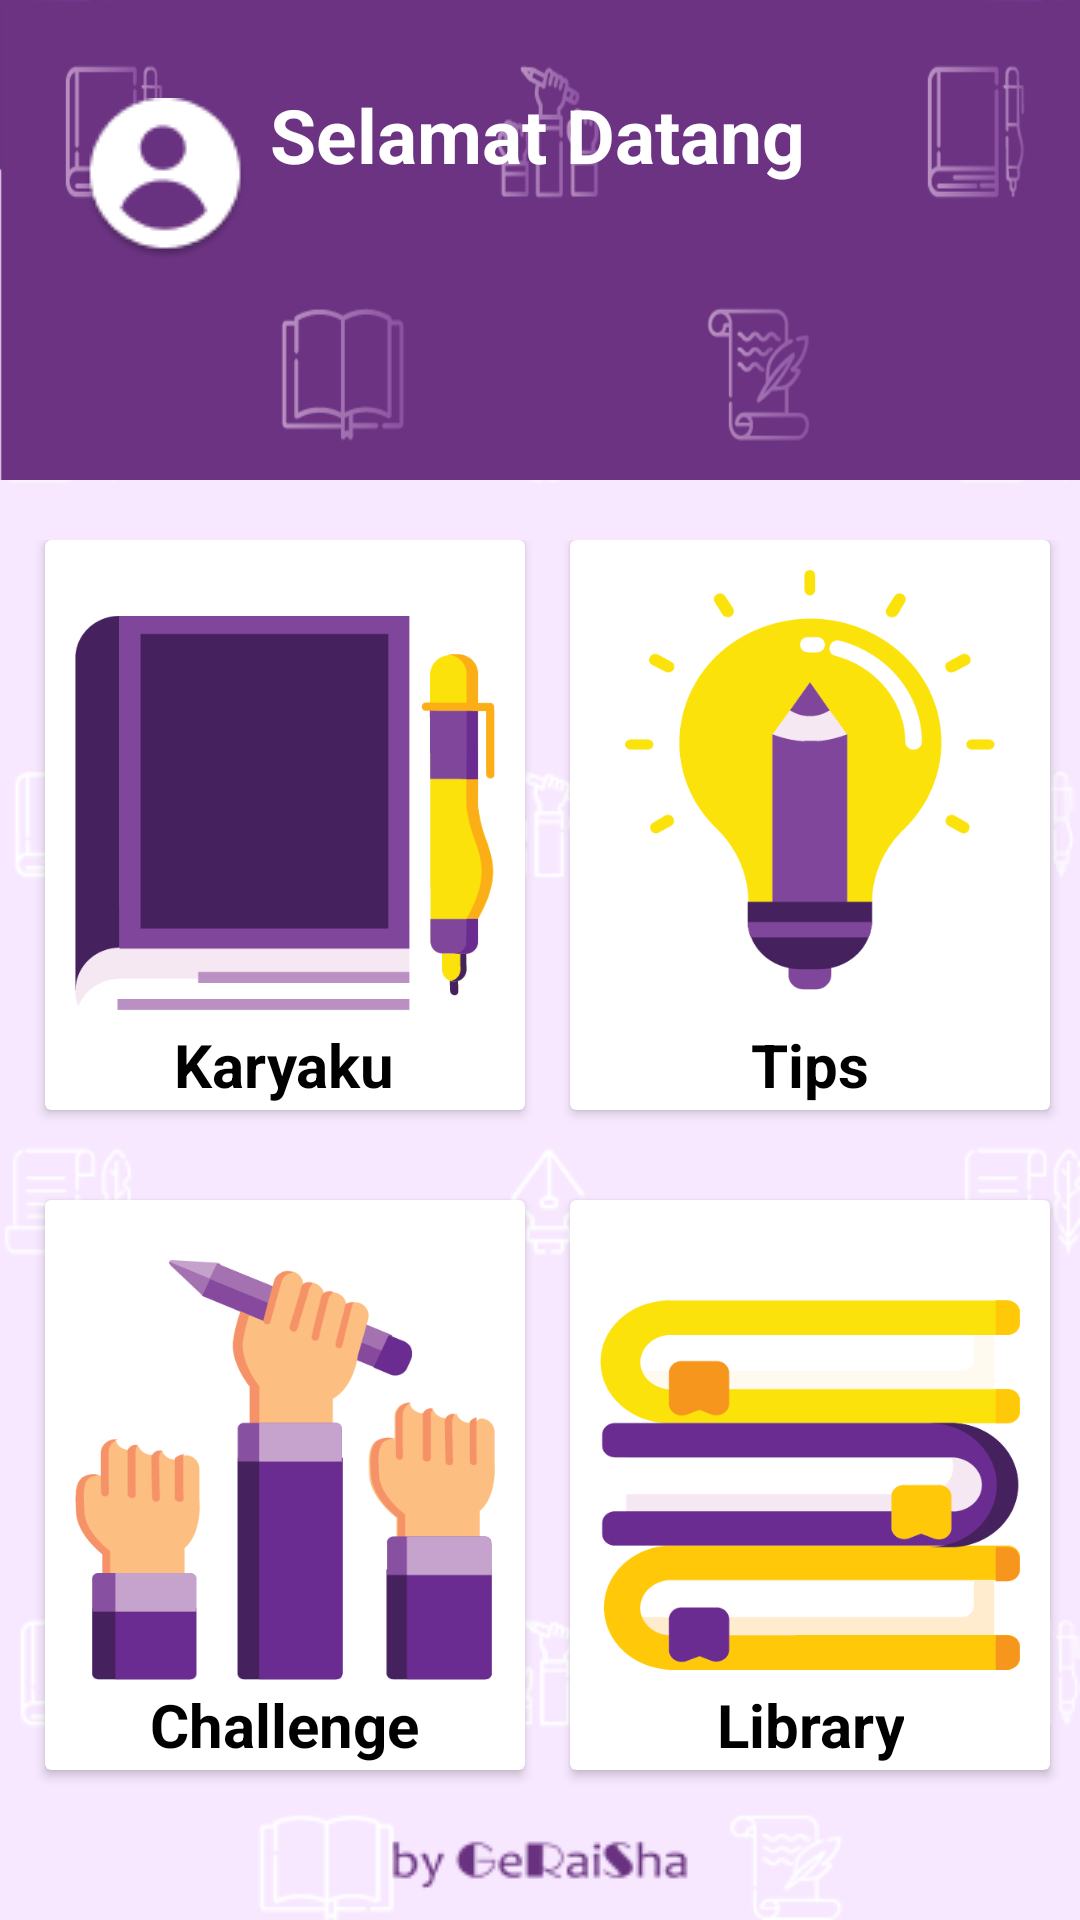

Named icons in this screenshot (1080px x 1920px) and their centers, (x=x, y=y):
profile: (x=158, y=171)
